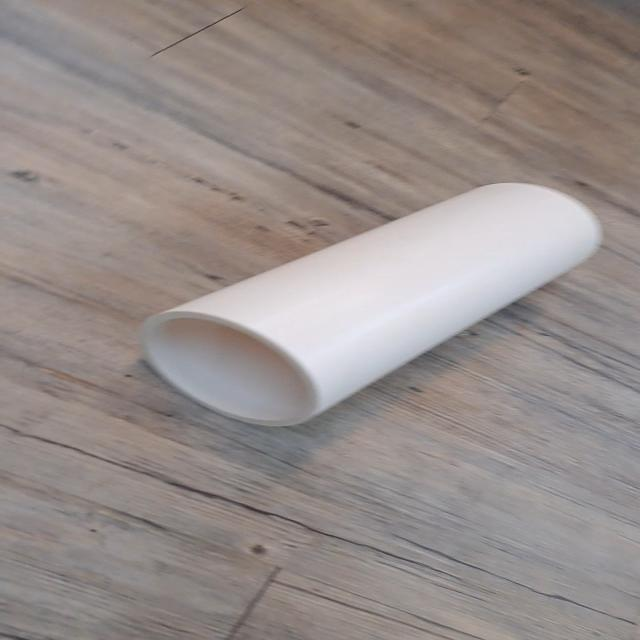CORAL: (128, 172, 615, 436)
